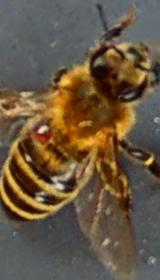varroa_mite: (22, 108, 59, 149)
